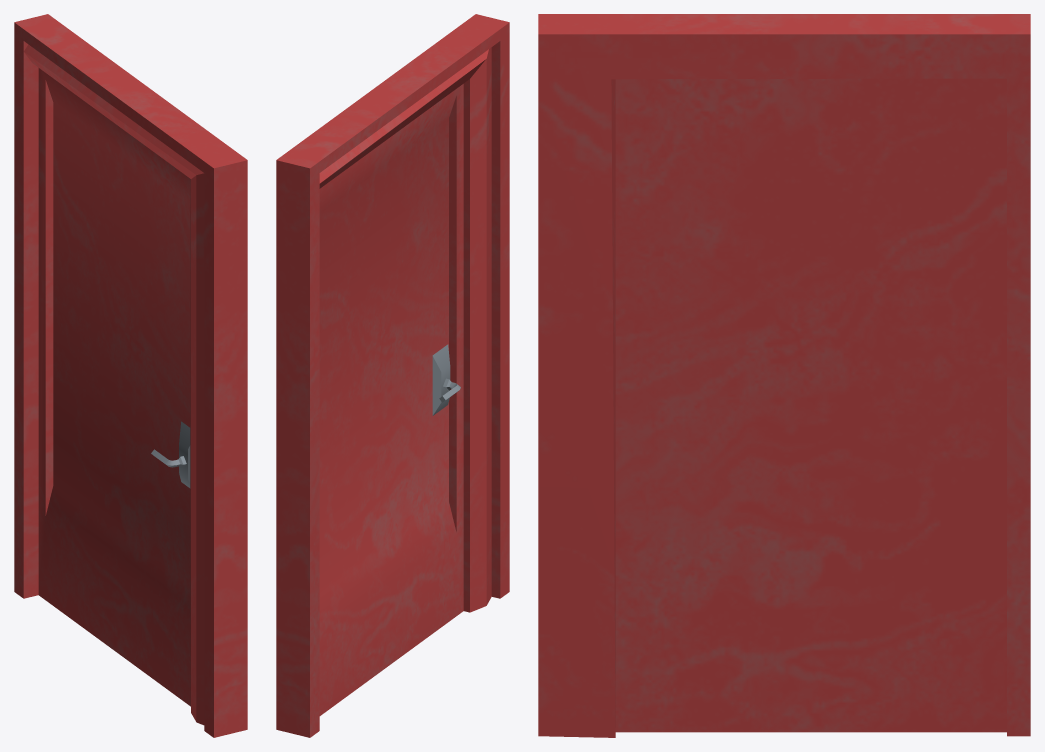
File: DoorEx.fbx
The picture shows the model from 3 angles, left to right: view 1: azimuth 30°, elevation 25°; view 2: azimuth 150°, elevation 25°; view 3: azimuth 270°, elevation 25°; orthographic projection. The views are drawn at different scales.
Visible parts, largest first — view 1: DoorEx, DoorFrameEx; view 2: DoorEx, DoorFrameEx; view 3: DoorEx, DoorFrameEx.
Boxes of the visible parts, box(x1,y1,x2,y2) form: DoorEx: box(38, 68, 190, 706); DoorFrameEx: box(14, 14, 247, 737); DoorEx: box(319, 84, 463, 715); DoorFrameEx: box(276, 14, 509, 737); DoorEx: box(615, 78, 1006, 732); DoorFrameEx: box(538, 14, 1030, 737).
Size of the model in its own units: 18.11 by 268 by 170.
